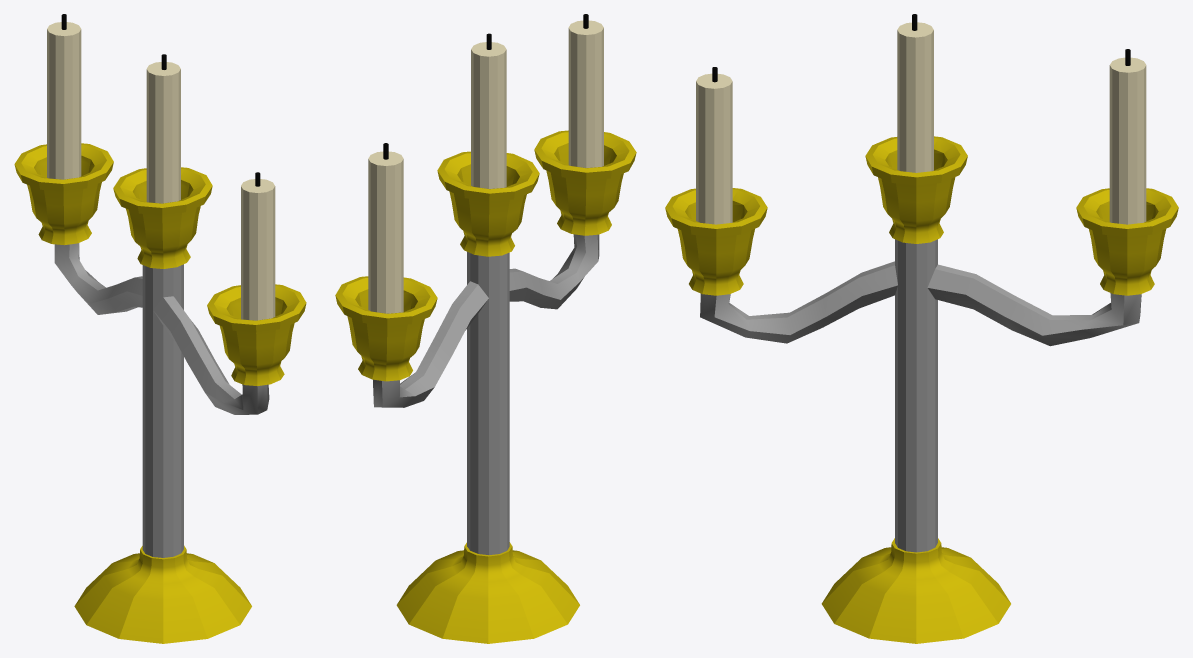
The model's file is candlestick.fbx.
3 views of the same model, side by side, from view 1: azimuth 30°, elevation 25°; view 2: azimuth 150°, elevation 25°; view 3: azimuth 270°, elevation 25° (orthographic). The views are drawn at different scales.
Visible parts, largest first — view 1: pCylinder14, pCylinder15, pCylinder16, pCylinder17; view 2: pCylinder14, pCylinder15, pCylinder17, pCylinder16; view 3: pCylinder14, pCylinder15, pCylinder17, pCylinder16.
Part boxes in pixels (x1,y1,x2,y2): pCylinder14: (14,143,306,643); pCylinder15: (47,14,81,179); pCylinder16: (146,54,180,203); pCylinder17: (241,172,275,320); pCylinder14: (335,130,636,643); pCylinder15: (368,143,403,313); pCylinder17: (568,14,603,167); pCylinder16: (471,33,506,188); pCylinder14: (665,136,1178,643); pCylinder15: (1109,49,1146,224); pCylinder17: (696,67,732,224); pCylinder16: (897,14,933,172).
Bounding box in the file's own units: 2.75 × 9.47 × 7.44.
